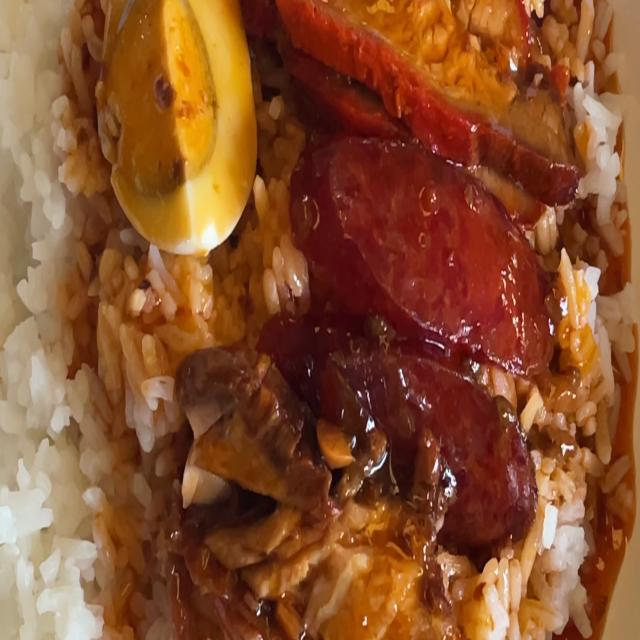red_pork_and_crispy_pork: (97, 0, 256, 248)
stir_fried_basil: (310, 151, 538, 505)
